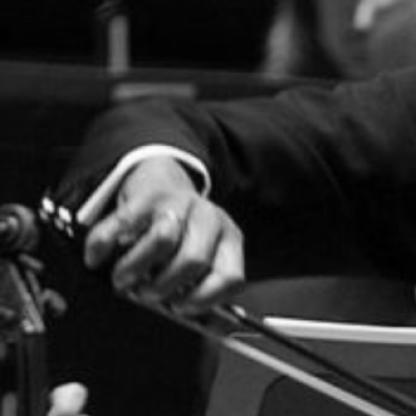good: (74, 159, 262, 328)
